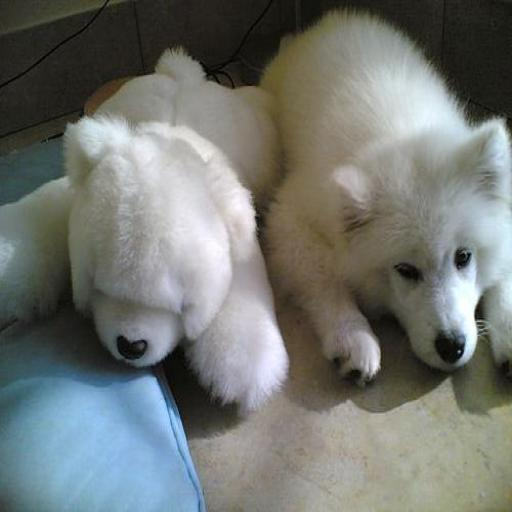dog_face: (341, 123, 499, 390)
